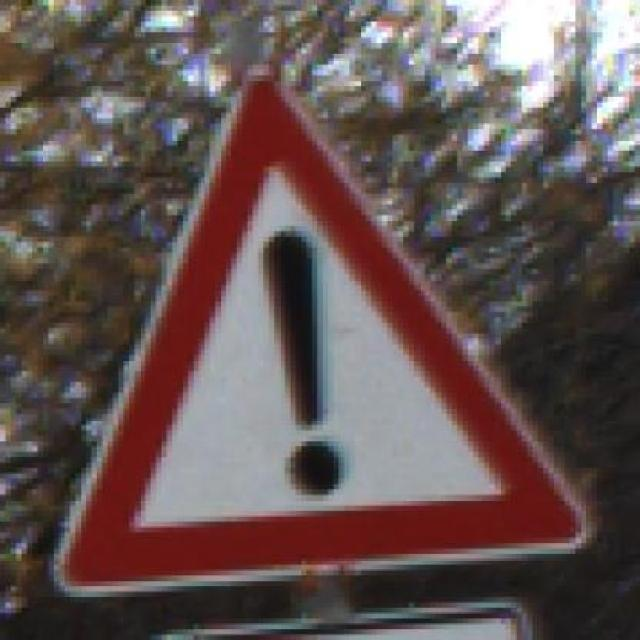Attention Please-: (48, 59, 602, 592)
